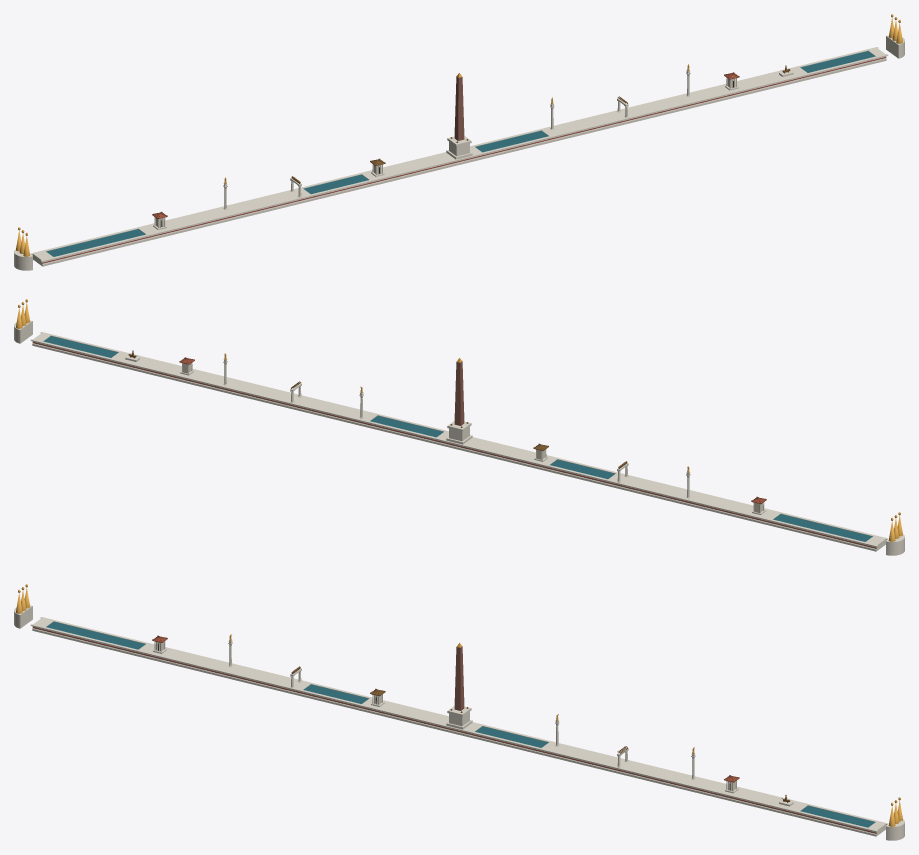
Rendered from rome_circus_spina.glb.
3 renders of one model, top to bottom at view 1: azimuth 30°, elevation 25°; view 2: azimuth 150°, elevation 25°; view 3: azimuth 330°, elevation 25°, orthographic.
Parts seen in each view (by area): view 1: rome_circus_spina; view 2: rome_circus_spina; view 3: rome_circus_spina.
Part boxes in pixels (left/top/right/bottom): rome_circus_spina: left=14, top=14, right=904, bottom=270; rome_circus_spina: left=14, top=299, right=904, bottom=555; rome_circus_spina: left=14, top=584, right=904, bottom=840.
Size of the model in its own units: 326 by 30.63 by 8.
